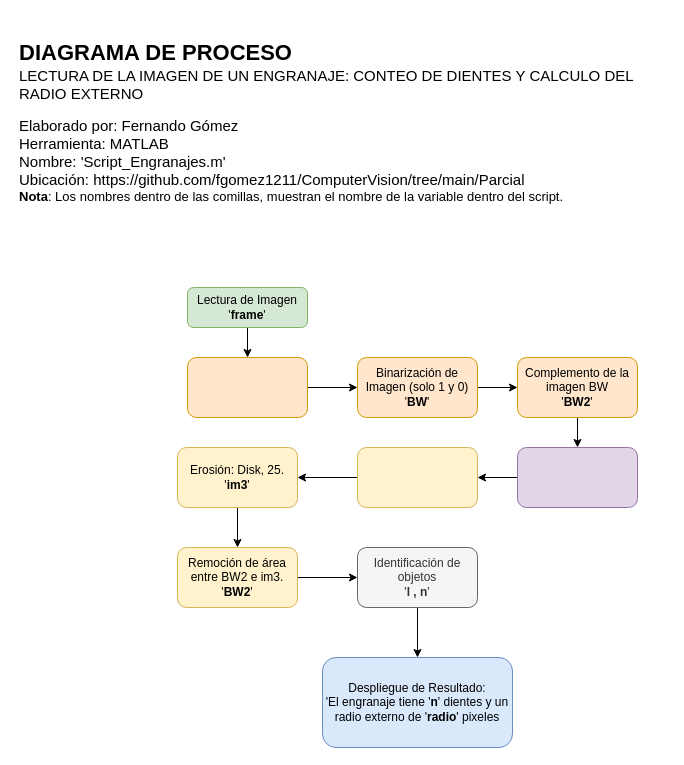
The diagram is 684 pixels wide and 765 high, and some of its shapes have lost their labels. Each missing label, with the centre of its shape:
"Aplicación de Convex Hull ' im2 '" goes at point (417, 477).
"Cálculo del área y radio externo complementada ' area ' y ' radio '" goes at point (577, 477).
"Transformar de RGB a Gray ' ImgGray '" goes at point (247, 387).
